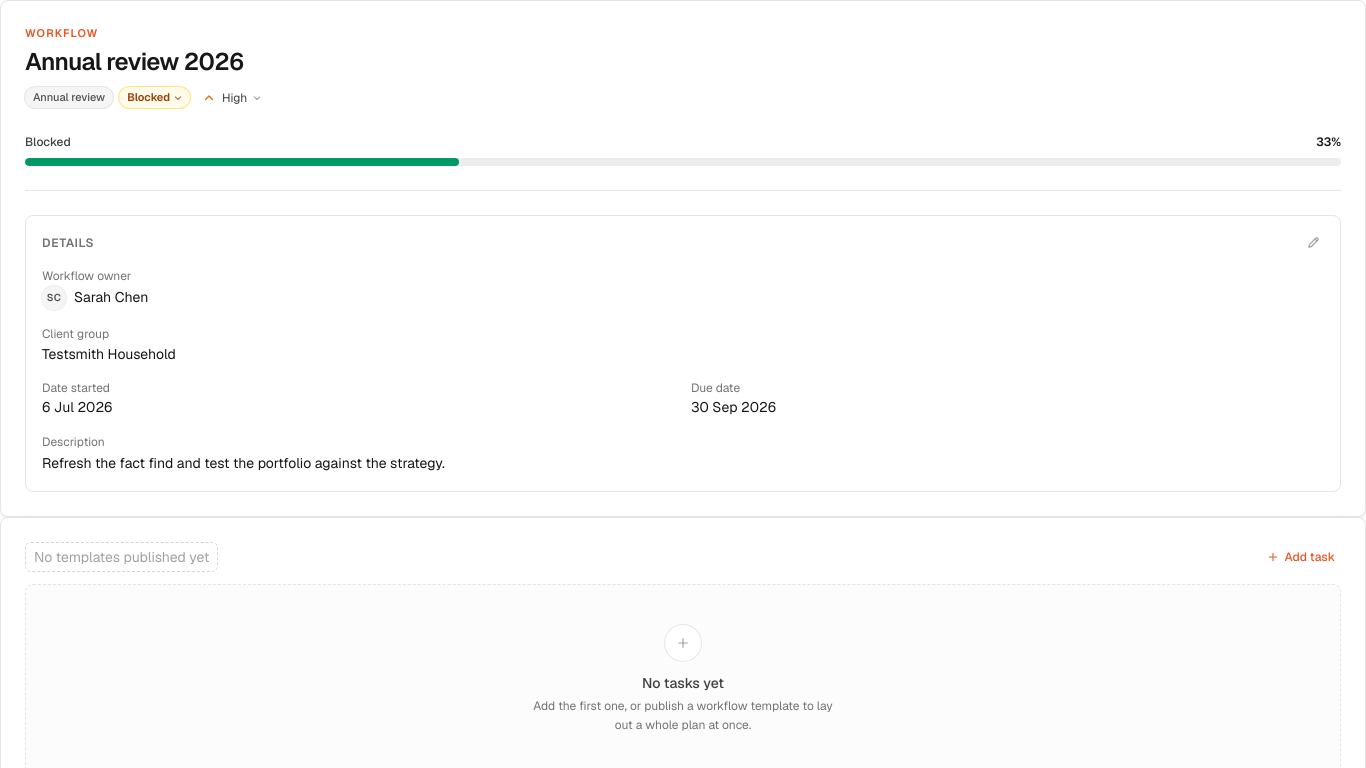
Test: the workflow detail page › a refused priority change reverts it
Click the button with aria-label "Change priority of": (233, 98) [196,86,269,110]
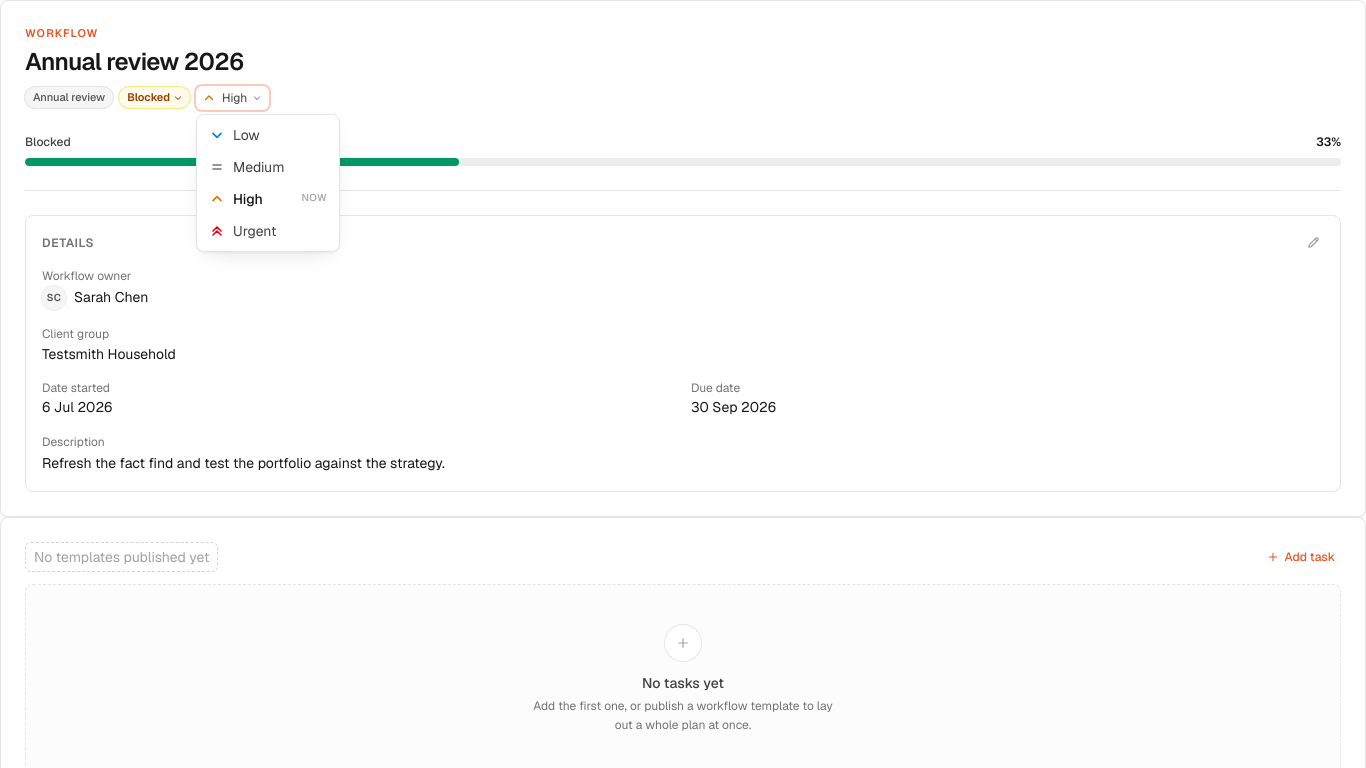
Click the menu item "Low": (268, 134) [201,118,335,150]
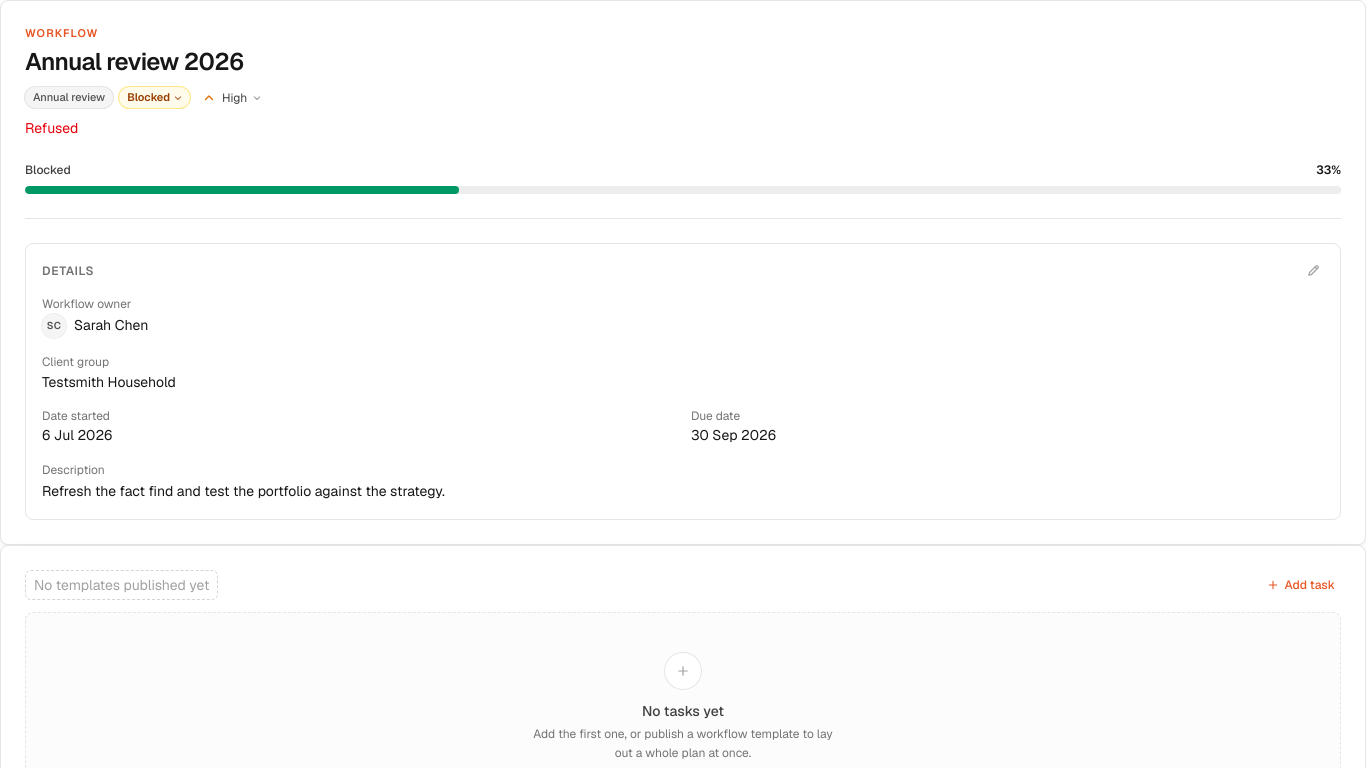
Expected: the button with aria-label "Priority: High" is shown, [196,86,269,110]
Result: the message reads "Refused" at [25,118,78,136]
